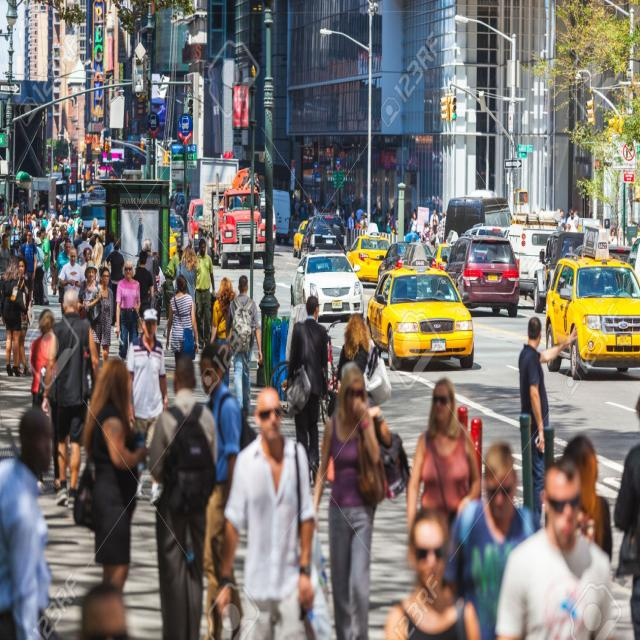body: (212, 384, 319, 639), (492, 456, 620, 640), (303, 359, 385, 639), (146, 351, 222, 639), (444, 439, 544, 639), (195, 340, 257, 640), (78, 354, 153, 597), (405, 377, 482, 569), (39, 287, 101, 513), (382, 505, 483, 640), (0, 405, 58, 639), (518, 316, 579, 534), (124, 306, 169, 508), (284, 293, 329, 485), (561, 434, 613, 563), (613, 392, 639, 639), (29, 307, 62, 493), (224, 273, 264, 417), (0, 195, 105, 248), (336, 311, 392, 409), (364, 392, 413, 503), (64, 577, 144, 640), (289, 193, 398, 236), (0, 254, 28, 378), (209, 276, 238, 389), (166, 274, 200, 367), (84, 265, 114, 368), (115, 258, 142, 364), (191, 237, 216, 351), (52, 237, 79, 316), (18, 256, 34, 377), (173, 244, 200, 315), (404, 208, 451, 248), (104, 238, 125, 327), (136, 237, 160, 309), (131, 249, 155, 319), (163, 248, 185, 324), (77, 260, 102, 316), (58, 247, 86, 296), (20, 230, 37, 309), (36, 224, 51, 306), (102, 230, 122, 290), (153, 254, 167, 326), (33, 236, 46, 306), (80, 246, 101, 286), (556, 207, 584, 233), (608, 268, 632, 298), (52, 224, 68, 267), (76, 230, 94, 267), (90, 240, 104, 285), (48, 228, 58, 290), (426, 277, 452, 300), (0, 232, 11, 284), (604, 226, 630, 248), (134, 215, 146, 259), (58, 229, 75, 255), (71, 209, 85, 237), (10, 212, 20, 247), (226, 195, 251, 209), (20, 224, 36, 244), (45, 213, 58, 234), (240, 194, 256, 211), (72, 226, 84, 248), (46, 218, 57, 242), (4, 223, 13, 251), (67, 217, 76, 244), (26, 209, 35, 232), (332, 258, 346, 272), (91, 216, 100, 233), (33, 220, 41, 238), (530, 207, 546, 215), (41, 214, 50, 228), (54, 223, 61, 240), (92, 228, 100, 242), (12, 202, 20, 215), (76, 221, 84, 229)
